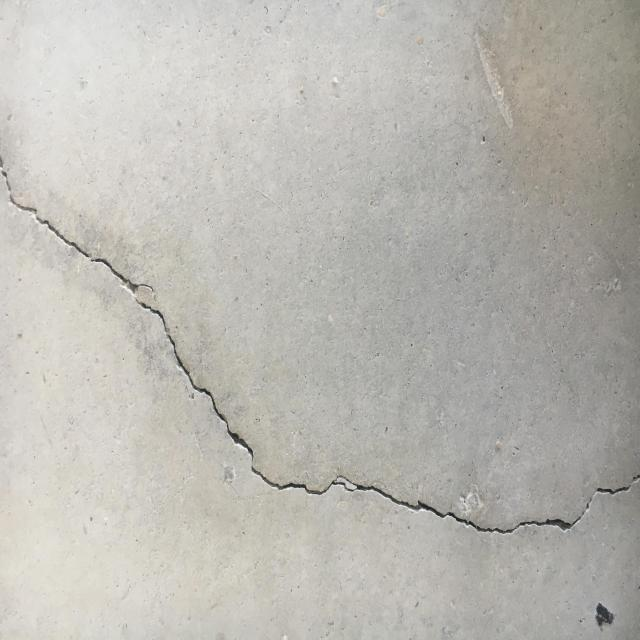SurfaceCrack: (0, 20, 639, 614)
